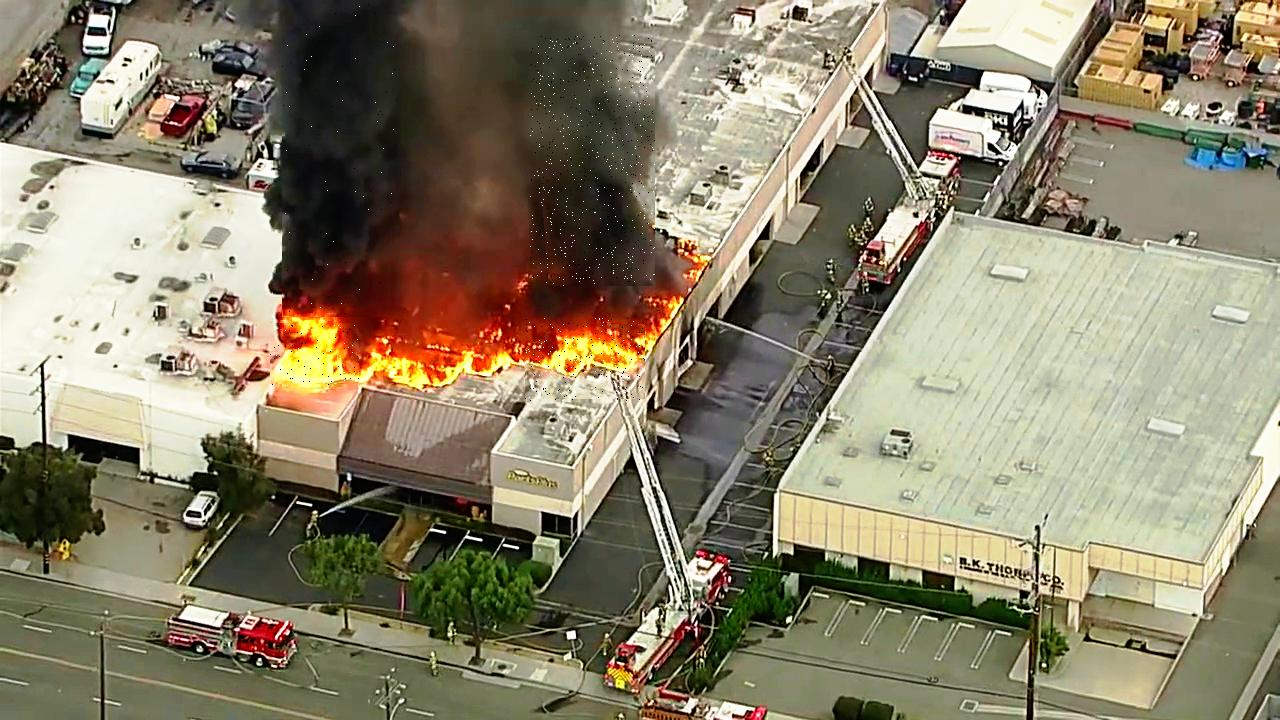fire: (525, 319, 645, 402), (270, 324, 359, 387)
smoke: (282, 0, 397, 317), (530, 35, 655, 286)
